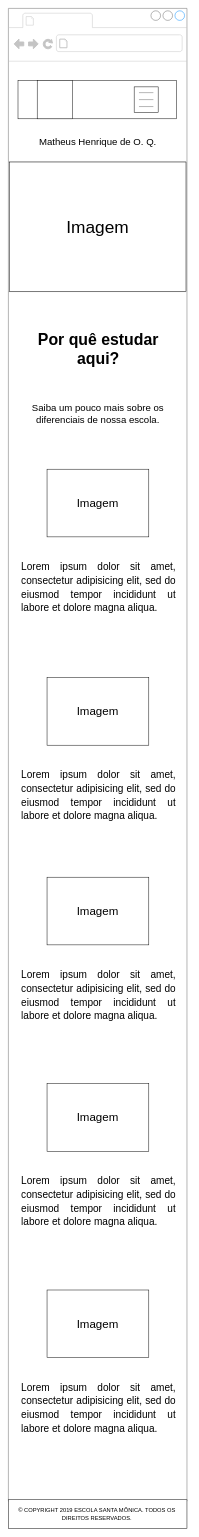
The diagram is 199 pixels wide and 1537 high, and some of its shapes have lost their labels. The centre of each missing label's shape, as x and y in pixels:
https://www.escolasantamonica.com: the point at 130,43
Logo: the point at 54,99
Page 1: the point at 63,20
